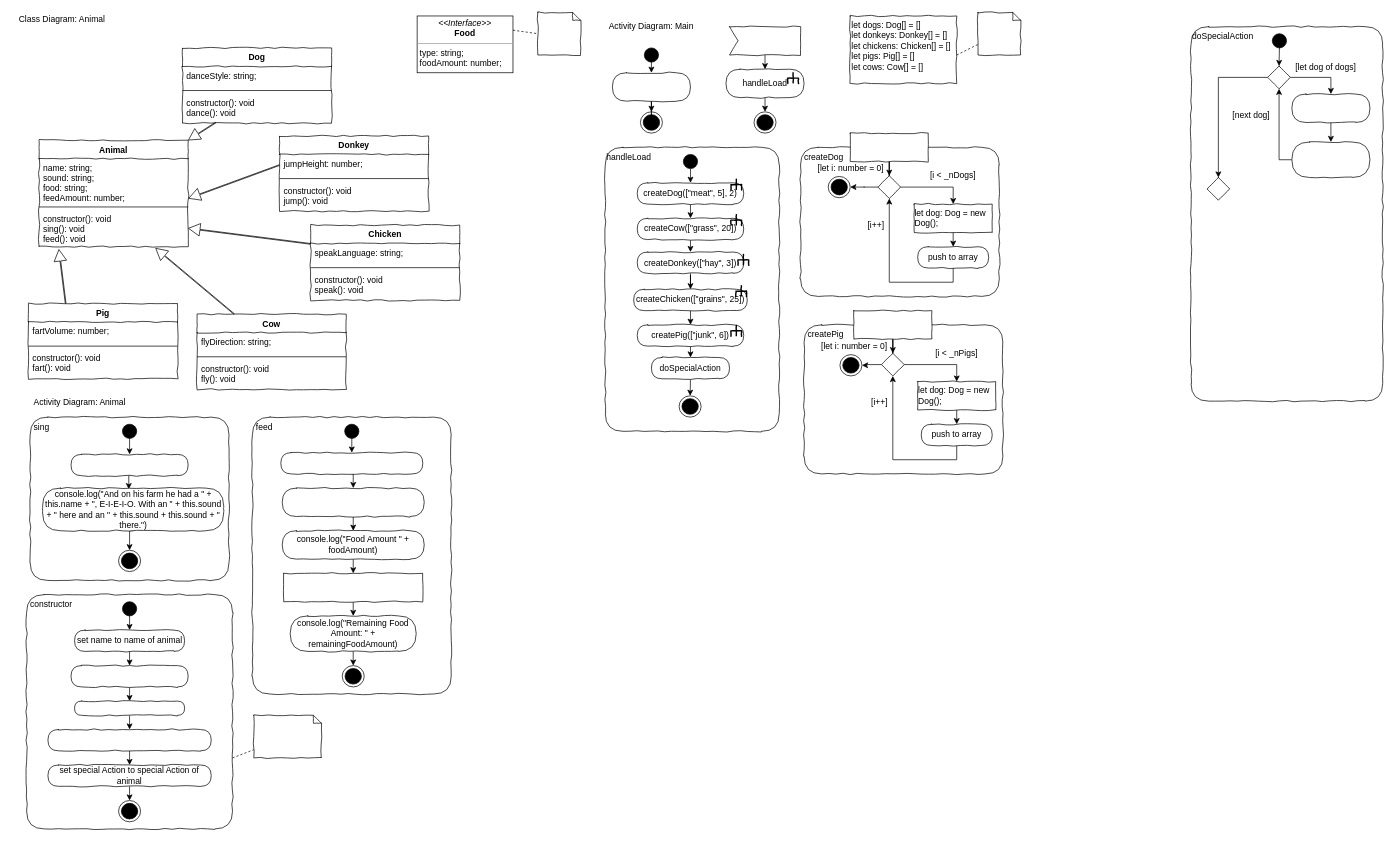
The diagram is 1395 pixels wide and 841 high, and some of its shapes have lost their labels. The shapes that lost their labels are listed below. From the top down, each one's centre as x and y in pixels, then its label:
point 558,33: Vorrat Futter
point 765,40: load
point 999,33: Array animals
point 651,86: install load listener
point 1330,107: dog.dance()
point 889,147: _foodinfo: Food, _nDogs: number
point 1330,159: console.log("Special activity of dog: Dog is dancing")
point 892,324: _foodinfo: Food
point 129,465: console.log("Überschrift: " + this.name)
point 351,463: console.log("Food Type: " + this.food)
point 353,502: console.log("Feed Amount " + this.feedAmount)
point 353,587: let remainingFoodAmount: number = foodAmount - this.feedAmount
point 129,676: set sound to sound of animal
point 129,707: set food to food of animal
point 129,740: set feedAmount to feedAmount of animal
point 287,736: allgemeiner constructor
